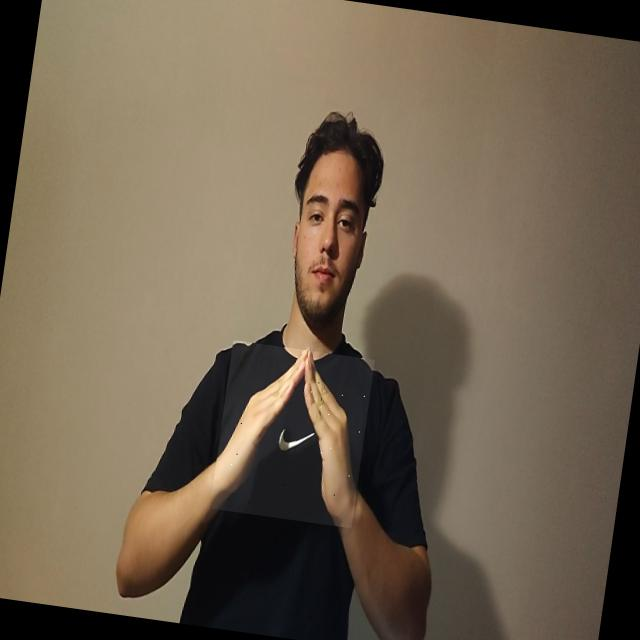house: (210, 340, 377, 529)
